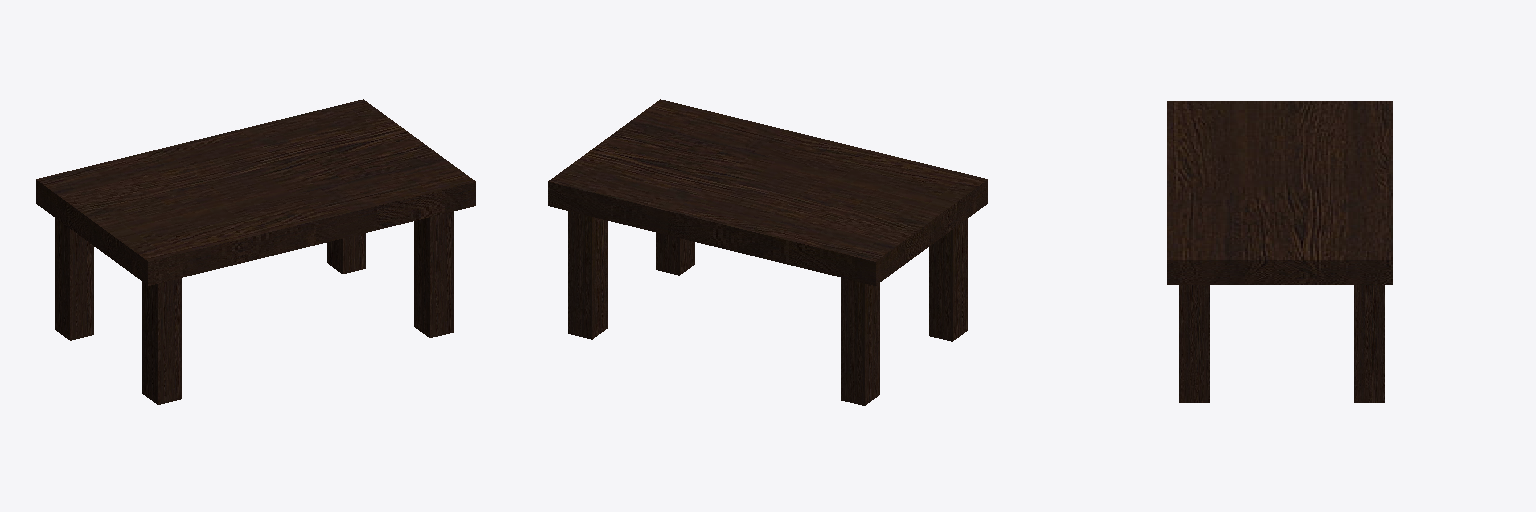
3 views of the same model, side by side, from view 1: azimuth 30°, elevation 25°; view 2: azimuth 150°, elevation 25°; view 3: azimuth 270°, elevation 25° (orthographic).
Parts seen in each view (by area): view 1: Desk; view 2: Desk; view 3: Desk.
Boxes of the visible parts, <box> form: Desk: <box>36,99,475,404</box>; Desk: <box>548,99,987,405</box>; Desk: <box>1167,101,1392,402</box>.
Size of the model in its own units: 5.28 by 2.32 by 3.14.
1 materials, 1 textured.